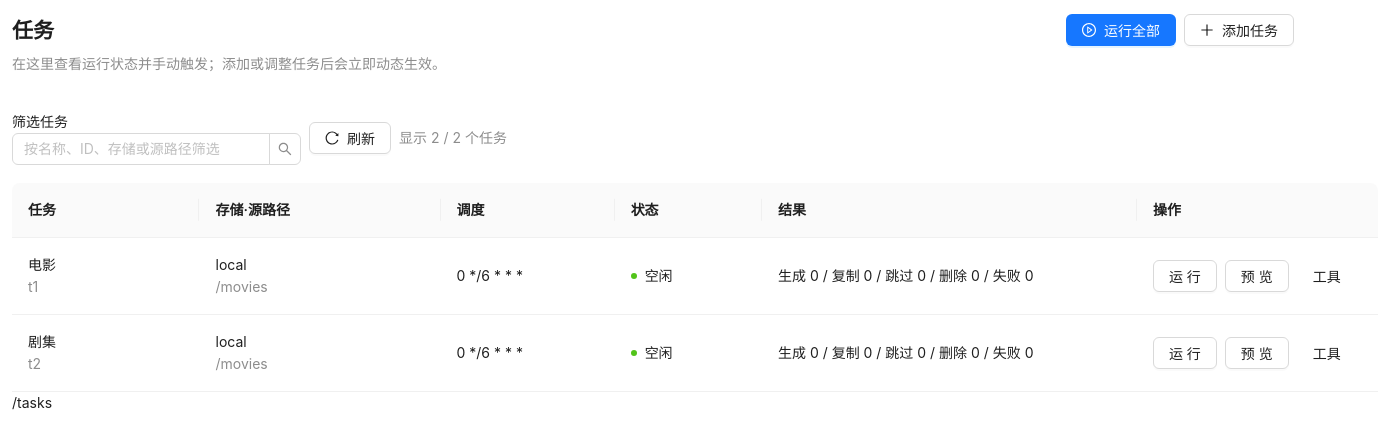
Test: 运行全部原子提交任务并在请求期间防重，成功后刷新状态
Expected: the text "电影" is shown, [28,256,56,273]
Click the button "运行全部". click: (1121, 30)
box: [1066,14,1176,46]
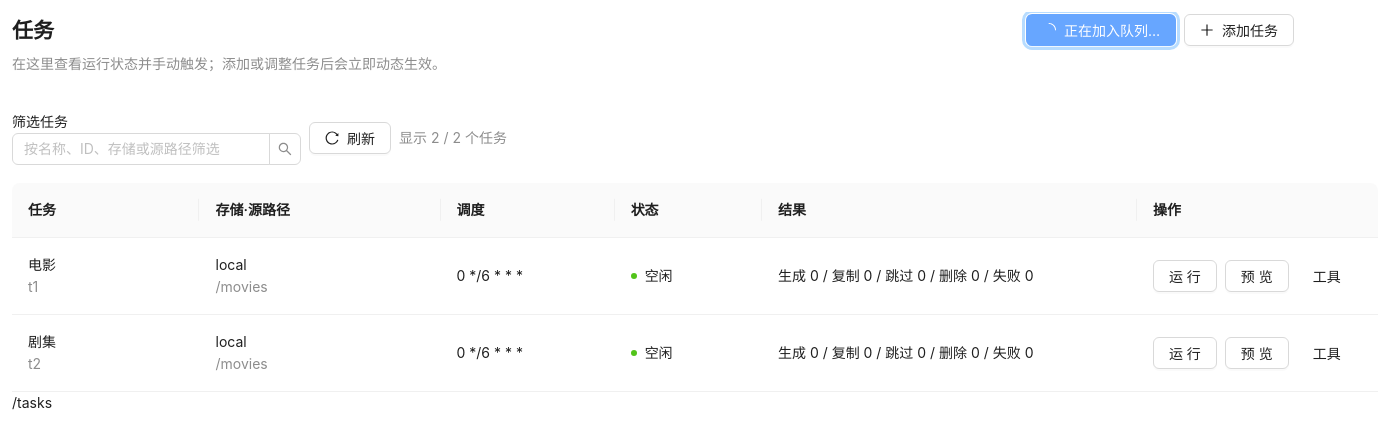
Result: the button named "运行全部" shows "正在加入队列"
Click the button named "运行全部". click: (1101, 30)
box: [1026,14,1176,46]
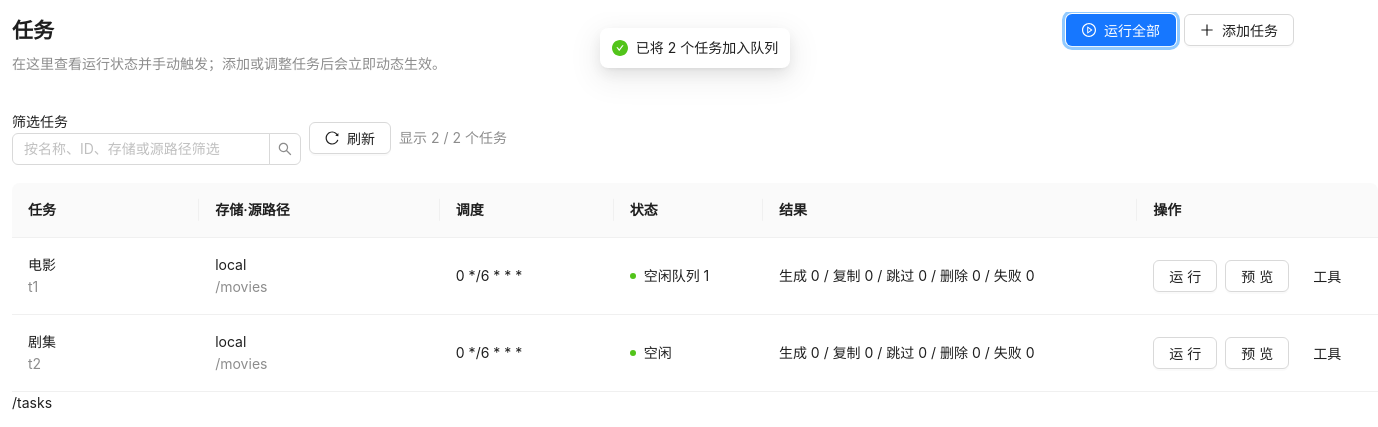
Result: the text "已将 2 个任务加入队列" is shown at [636,37,778,59]
Result: the text "队列 1" is shown 2 times
